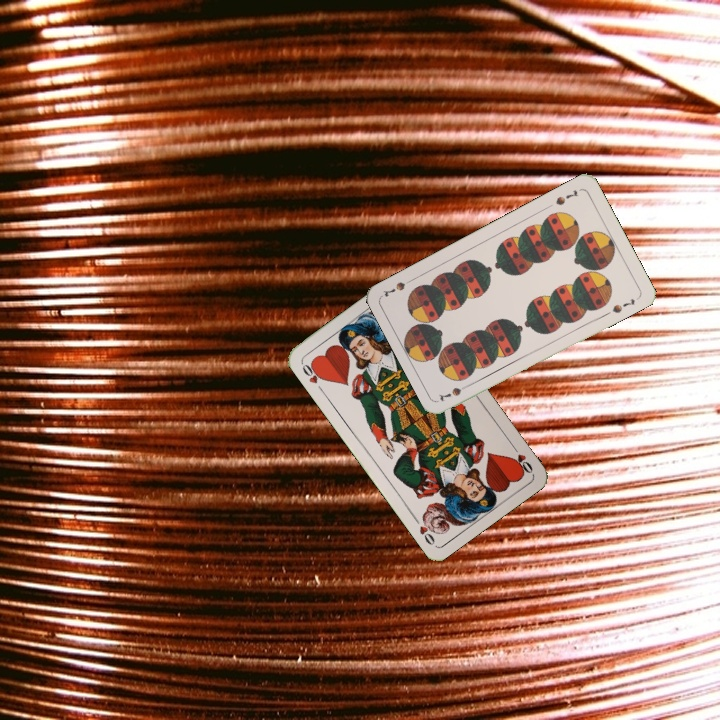HO: (298, 358, 326, 394), (507, 440, 535, 476)
S7: (435, 380, 474, 404), (551, 186, 580, 208)
